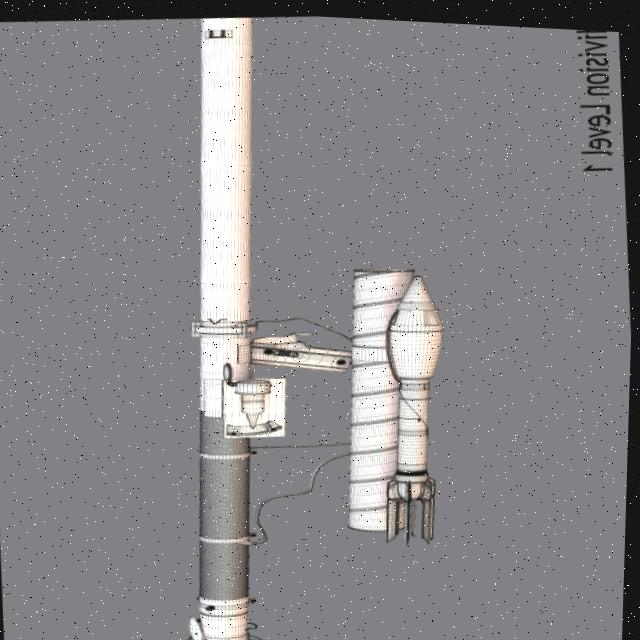grenade: (373, 263, 465, 551)
rocket: (141, 6, 364, 640)
